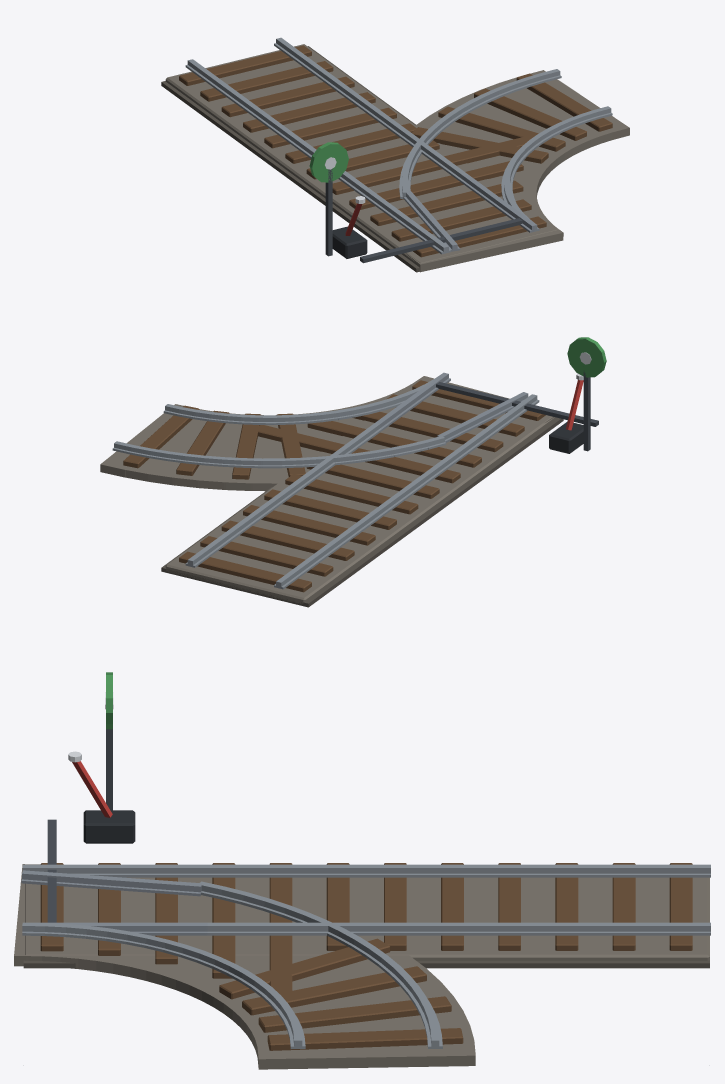
File: rail_aiguillage_d_droit.glb
3 renders of one model, top to bottom at view 1: azimuth 30°, elevation 25°; view 2: azimuth 150°, elevation 25°; view 3: azimuth 270°, elevation 25°, orthographic. The views are drawn at different scales.
Visible parts, largest first — view 1: rail_ballast.016, rail_traverse.018, rail_rail.018, rail_ballast_sombre.010, rail_acier_sombre.008, rail_acier.008, rail_vert.004, rail_fonte.008; view 2: rail_ballast.016, rail_traverse.018, rail_rail.018, rail_ballast_sombre.010, rail_acier.008, rail_acier_sombre.008, rail_vert.004, rail_fonte.008; view 3: rail_ballast.016, rail_traverse.018, rail_rail.018, rail_acier.008, rail_ballast_sombre.010, rail_fonte.008, rail_acier_sombre.008.
Boxes of the visible parts, bbox=[...] form: rail_ballast.016: bbox=[165, 44, 629, 272]; rail_traverse.018: bbox=[179, 45, 612, 257]; rail_rail.018: bbox=[185, 37, 612, 254]; rail_ballast_sombre.010: bbox=[161, 46, 563, 272]; rail_acier_sombre.008: bbox=[325, 168, 522, 263]; rail_acier.008: bbox=[403, 175, 538, 251]; rail_vert.004: bbox=[309, 142, 348, 182]; rail_fonte.008: bbox=[332, 226, 367, 258]; rail_ballast.016: bbox=[100, 376, 557, 604]; rail_traverse.018: bbox=[123, 380, 545, 592]; rail_rail.018: bbox=[112, 373, 539, 589]; rail_ballast_sombre.010: bbox=[161, 418, 563, 607]; rail_acier.008: bbox=[375, 372, 528, 442]; rail_acier_sombre.008: bbox=[436, 371, 598, 451]; rail_vert.004: bbox=[567, 337, 606, 377]; rail_fonte.008: bbox=[549, 421, 583, 453]; rail_ballast.016: bbox=[14, 864, 709, 1069]; rail_traverse.018: bbox=[40, 863, 692, 1050]; rail_rail.018: bbox=[22, 864, 710, 1048]; rail_acier.008: bbox=[21, 870, 207, 935]; rail_ballast_sombre.010: bbox=[23, 960, 709, 968]; rail_fonte.008: bbox=[83, 810, 135, 843]; rail_acier_sombre.008: bbox=[47, 729, 112, 922].
Bounding box in the file's own units: 3.04 × 0.777 × 3.05.
